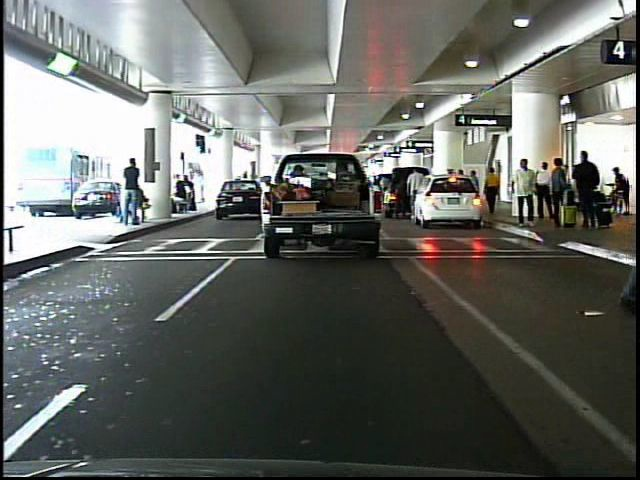person: (571, 146, 610, 232), (509, 156, 541, 234), (124, 158, 147, 229), (405, 163, 431, 222), (549, 154, 569, 228), (535, 161, 555, 223), (485, 163, 502, 217), (606, 160, 631, 194)
